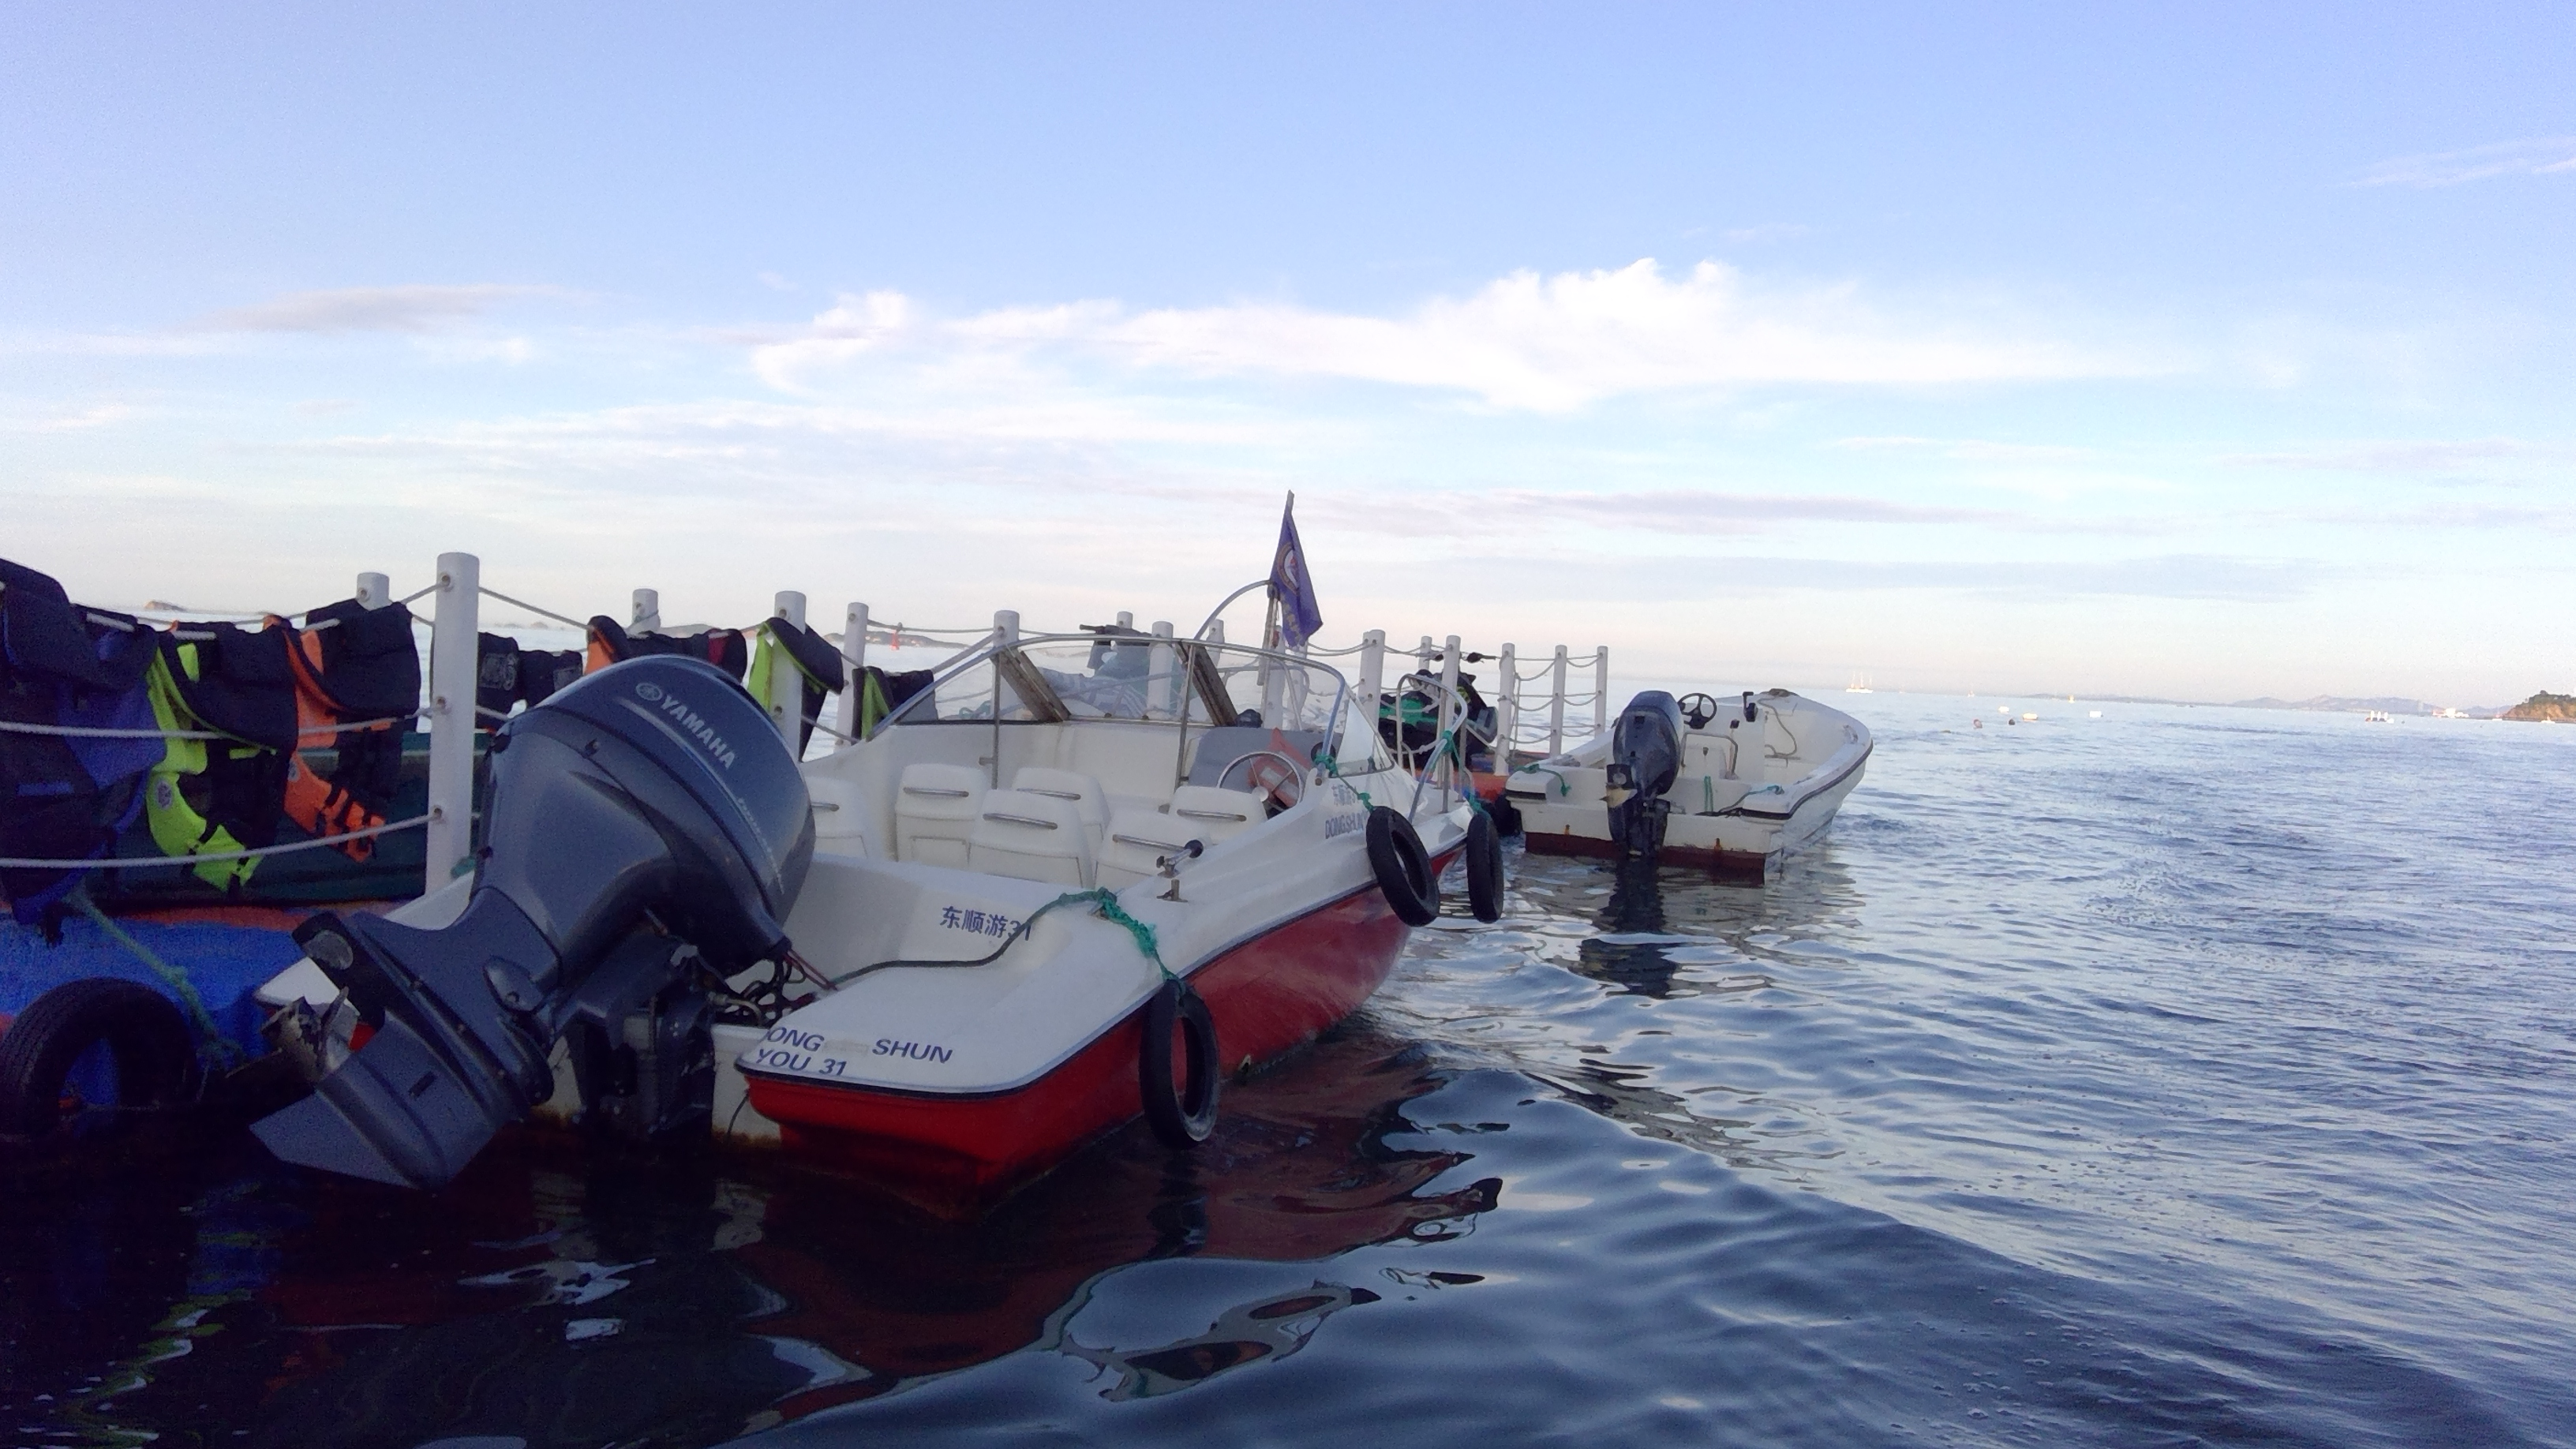boat: (234, 589, 1546, 1141), (1488, 665, 1909, 899)
rock: (2493, 683, 2576, 734)
